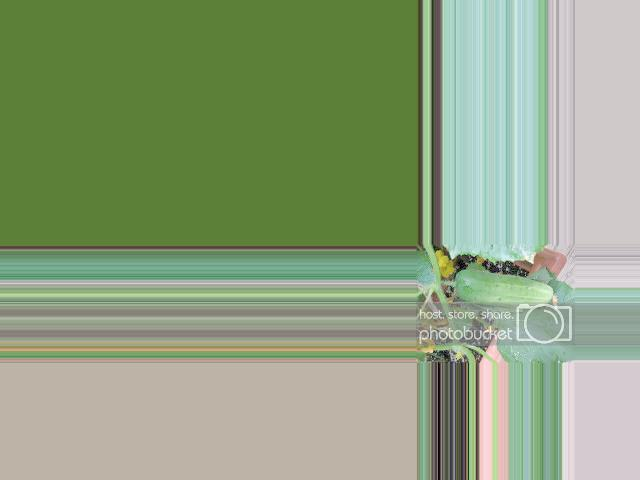cucumber: (456, 269, 554, 309)
